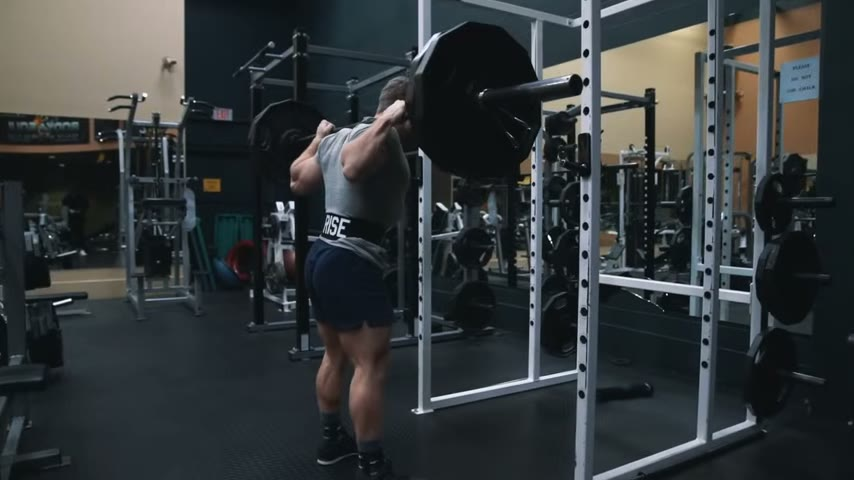barbell_plate_side: (543, 5, 653, 175), (237, 15, 310, 175)
